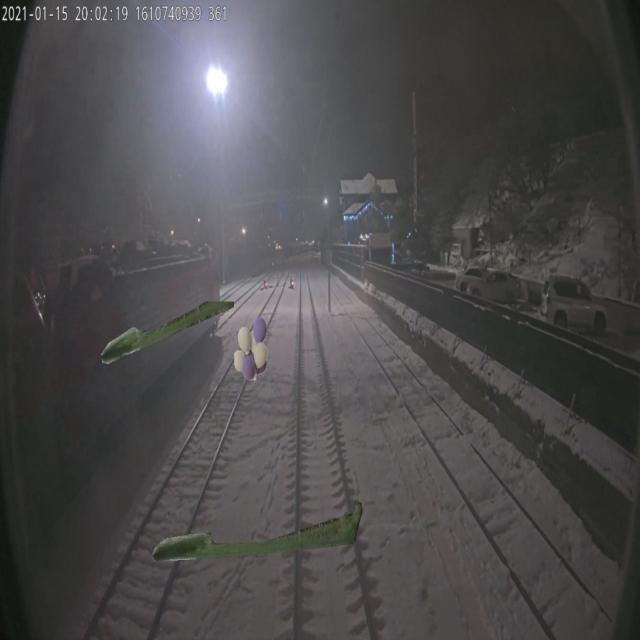balloon: (234, 316, 268, 381)
floating object: (151, 497, 370, 561), (100, 302, 236, 366)
